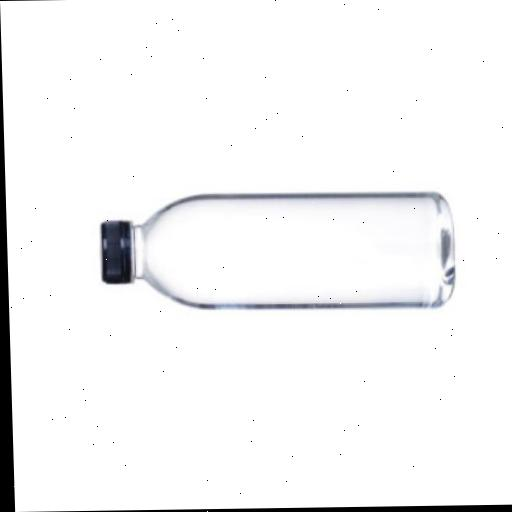bottle: (77, 169, 482, 330)
